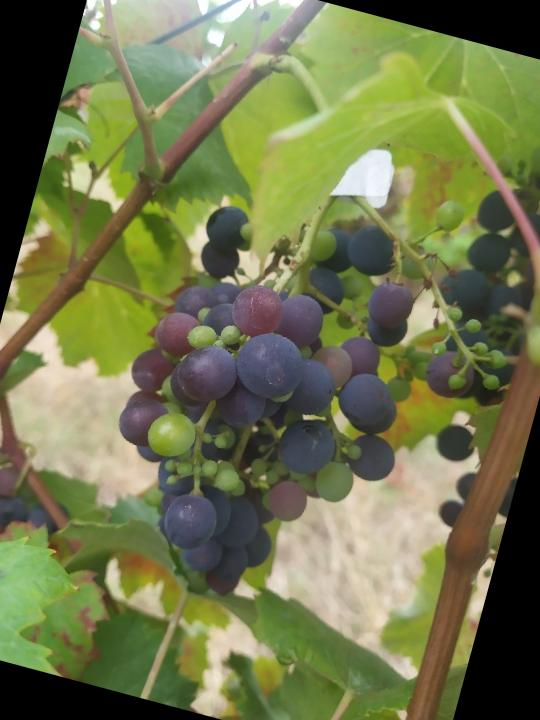grape: (79, 128, 467, 633)
